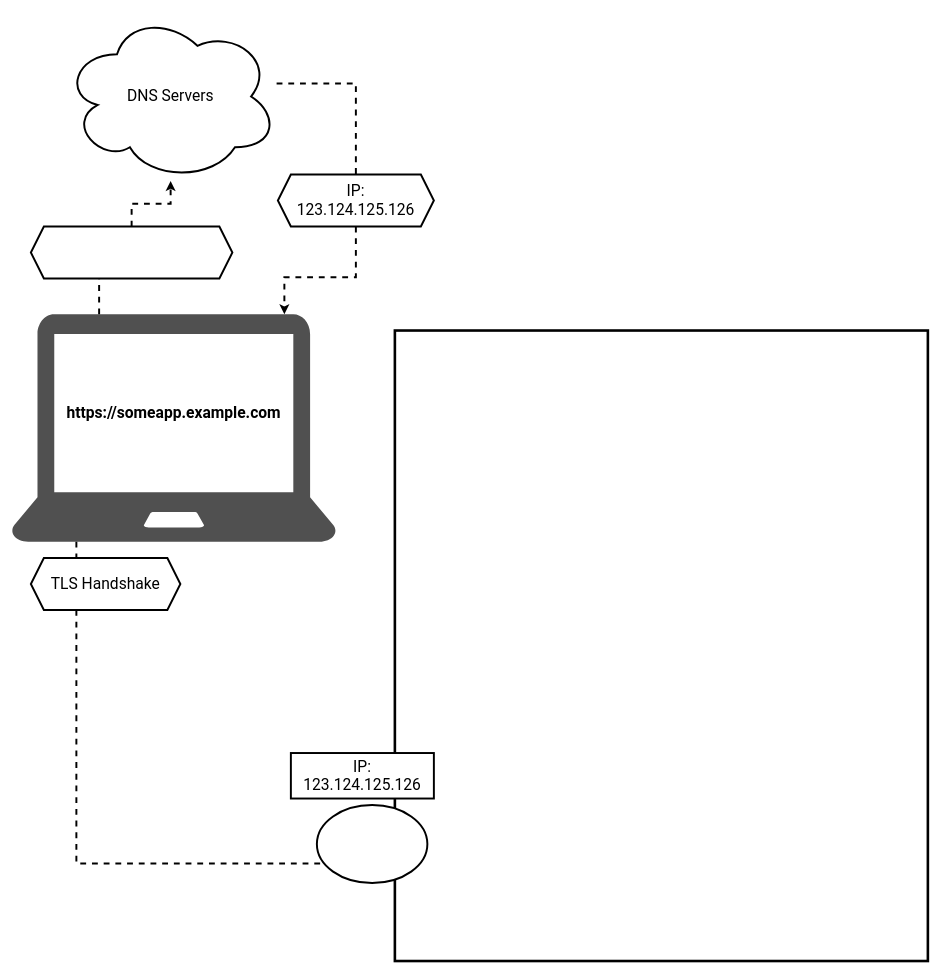
Some shapes in this 940 by 974 pixel diagram are drawn without their labels. Each missing label, with the box of its shape:
Port 443 (HTTPS): (316, 804, 428, 884)
Server(s): (393, 329, 929, 962)
Who is: someapp.example.com: (30, 225, 233, 279)
